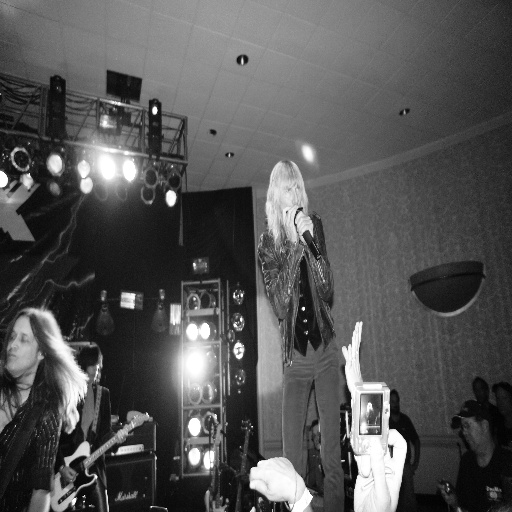hand: (352, 428, 406, 511), (247, 456, 305, 503), (341, 323, 363, 397), (282, 203, 303, 241), (294, 208, 315, 243), (437, 478, 455, 507), (59, 467, 78, 486), (115, 427, 129, 446)
